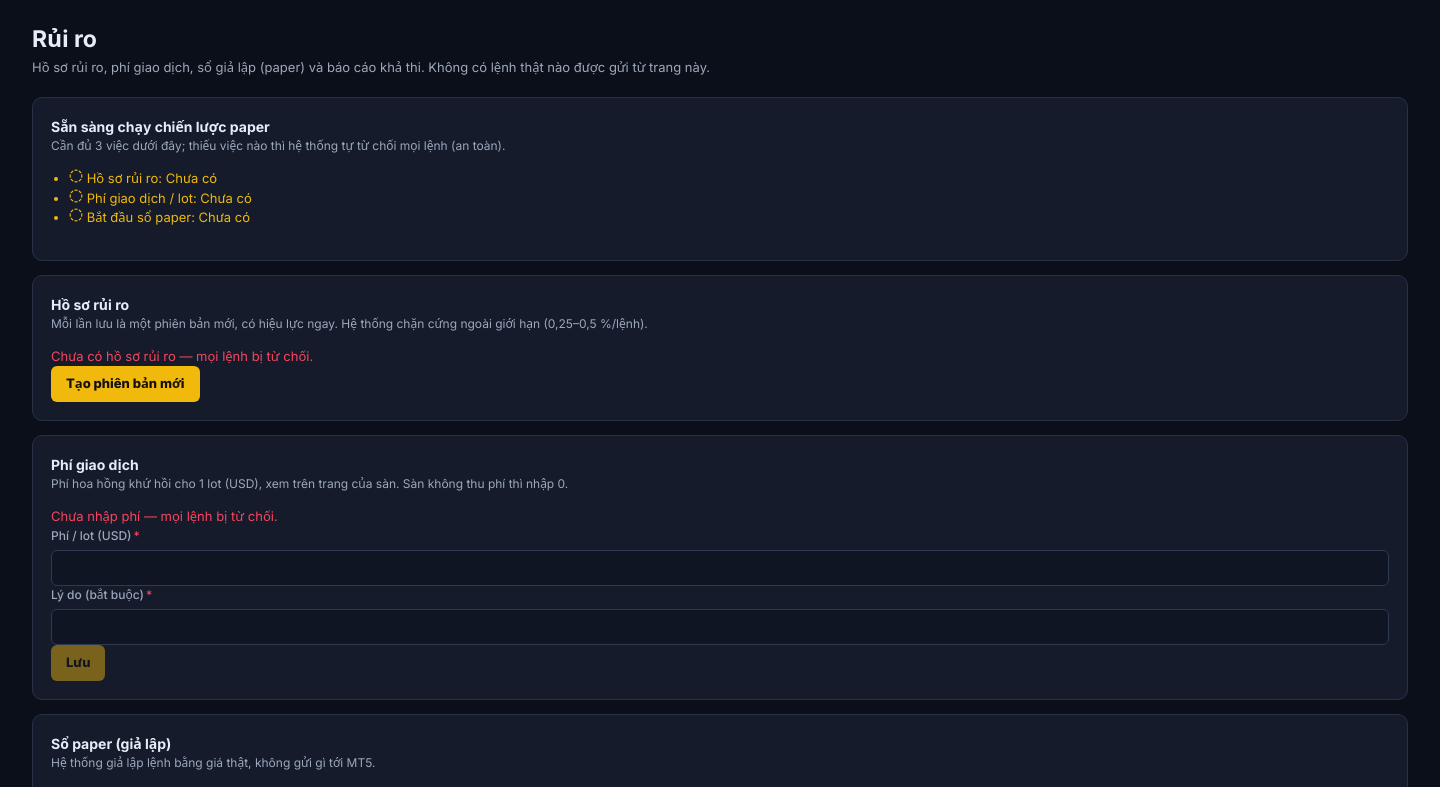
Test: Trang Rủi ro (DSH-05) › hồ sơ bị backend từ chối → báo lỗi, không đóng biểu mẫu
The image size is (1440, 787).
Click the button "Tạo phiên bản mới" at (125, 384), box left=51, top=366, right=200, bottom=402
(page scrolled)
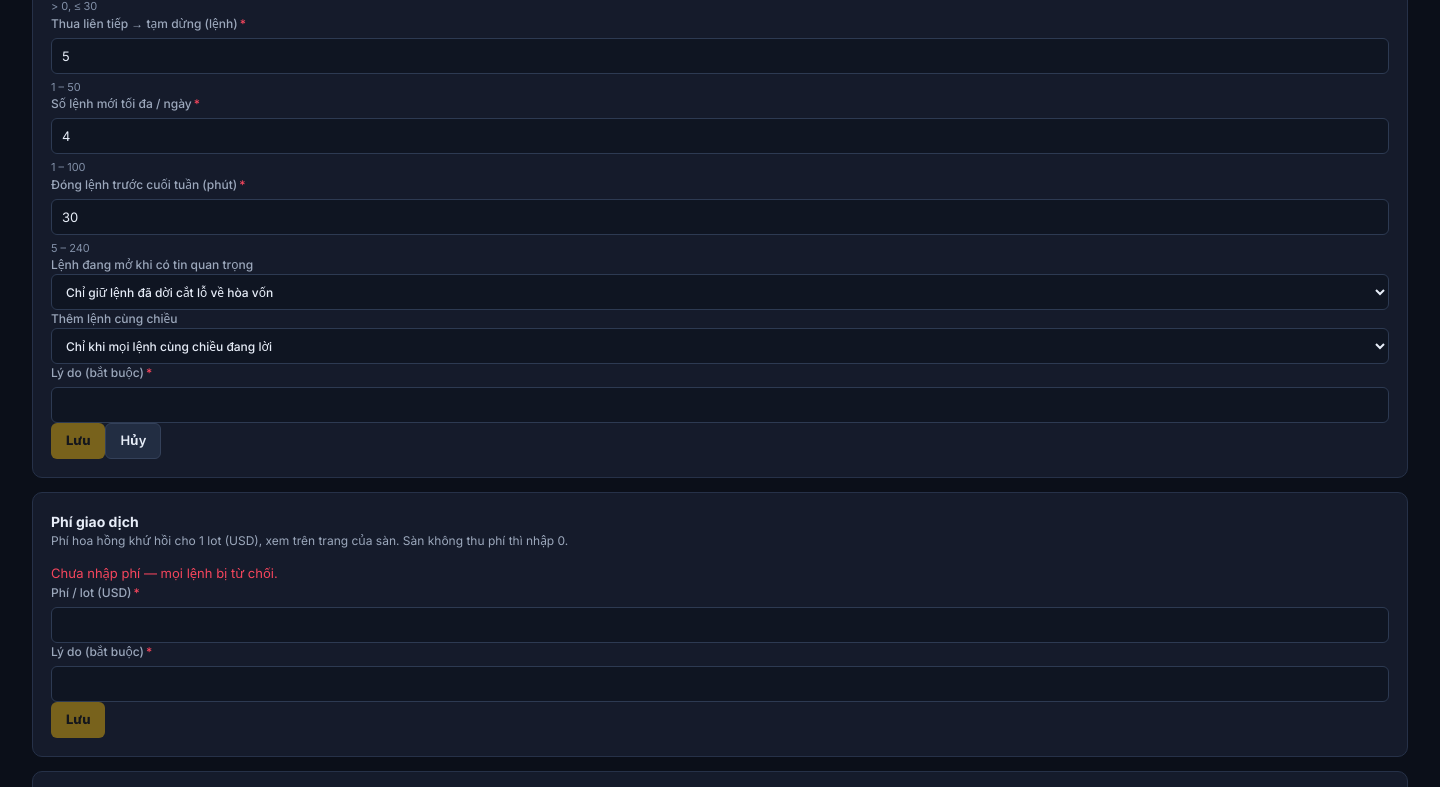
Type "x" into the field labelled "Lý do (bắt buộc)*" below "Thêm lệnh cùng chiều" at (720, 405), box left=51, top=387, right=1389, bottom=423
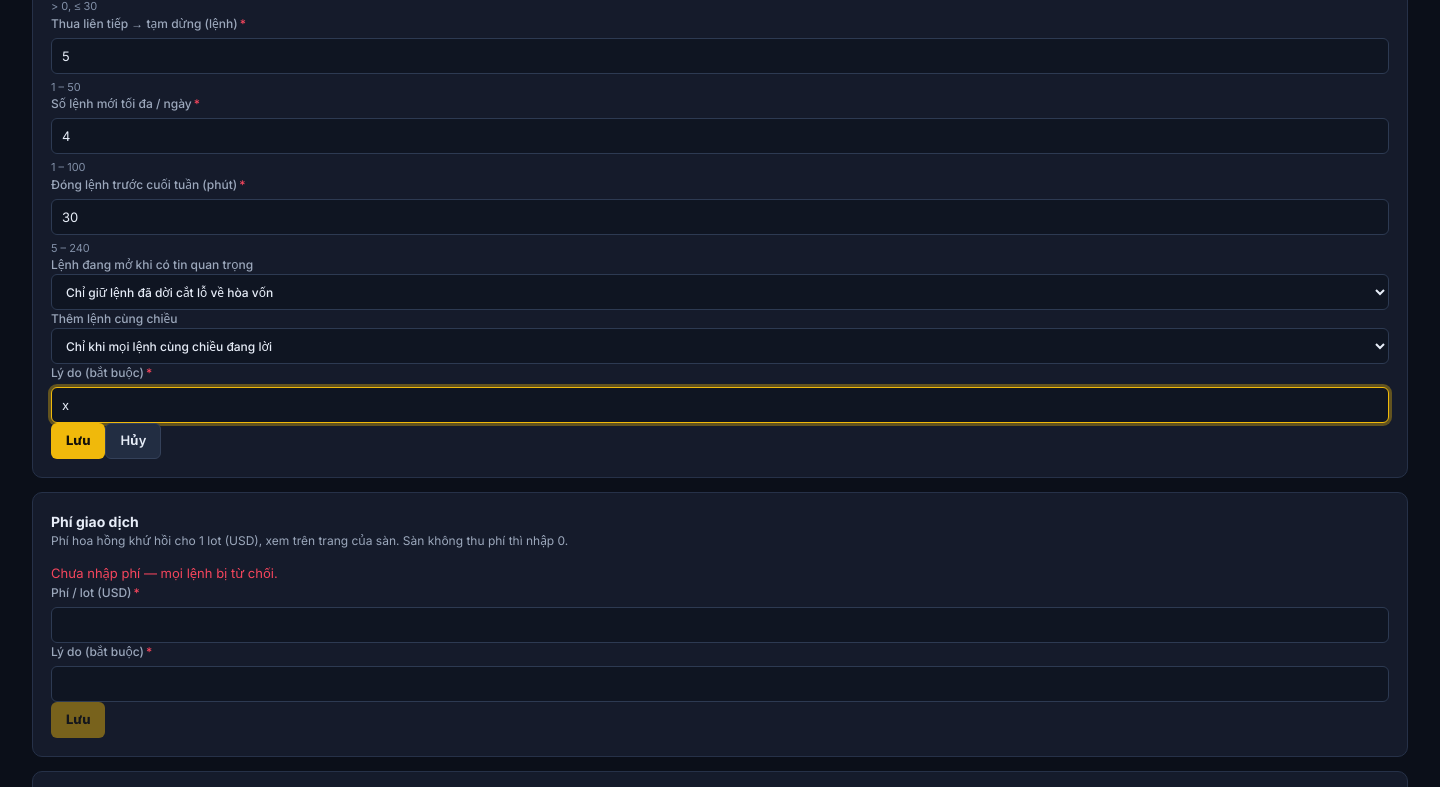
Click the button "Lưu" below "Thêm lệnh cùng chiều" at (78, 441), box left=51, top=423, right=105, bottom=459
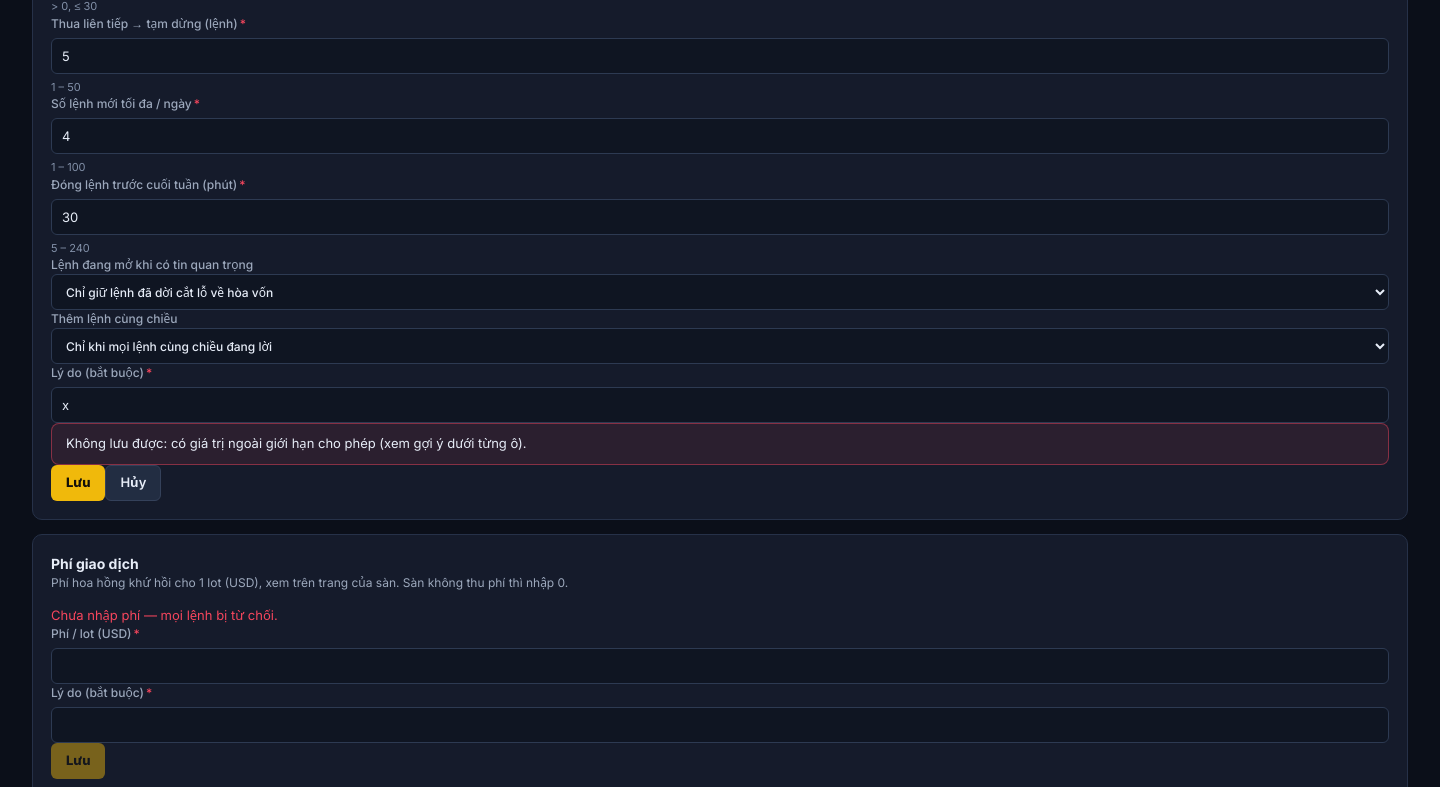
Now the text "ngoài giới hạn cho phép" is shown, box left=66, top=435, right=527, bottom=451
